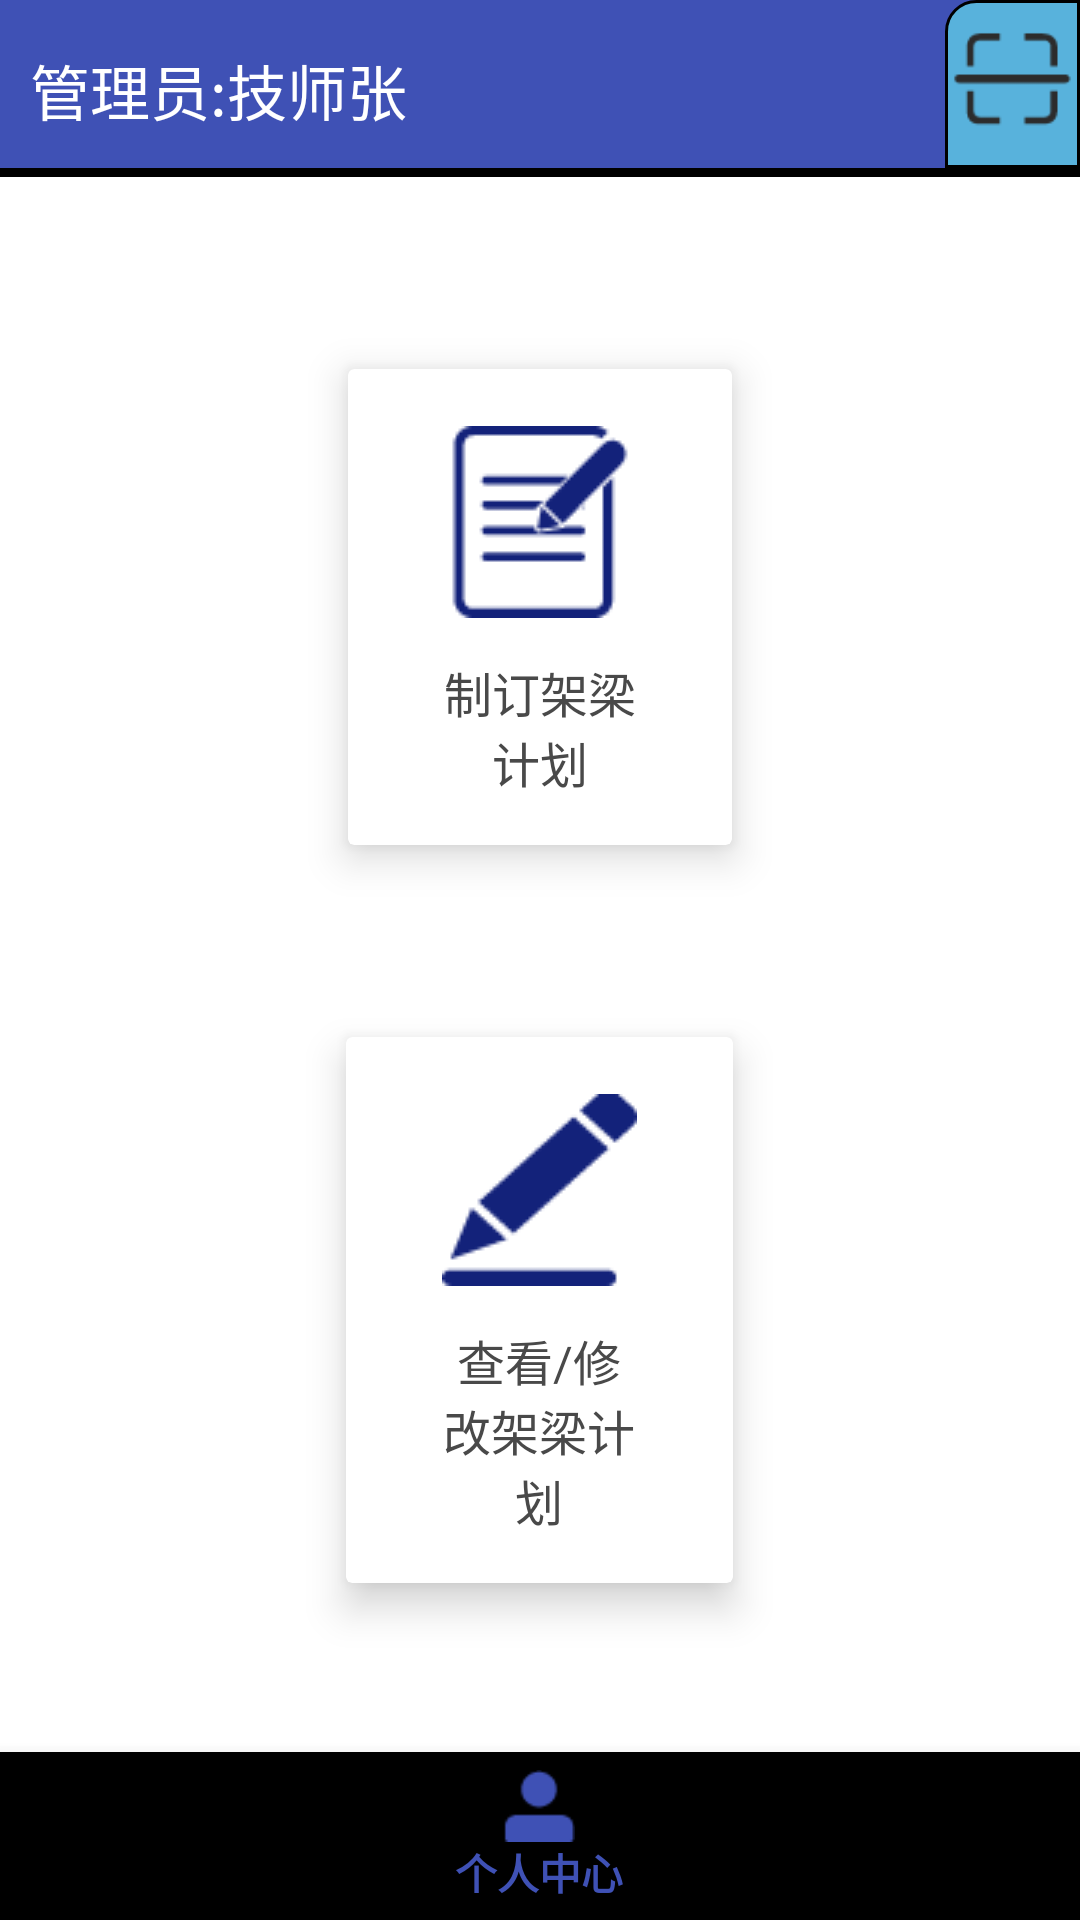

Icons on this 1080px x 1920px Android screen, each with the point to tap as (x,y):
scan: (1012,79)
